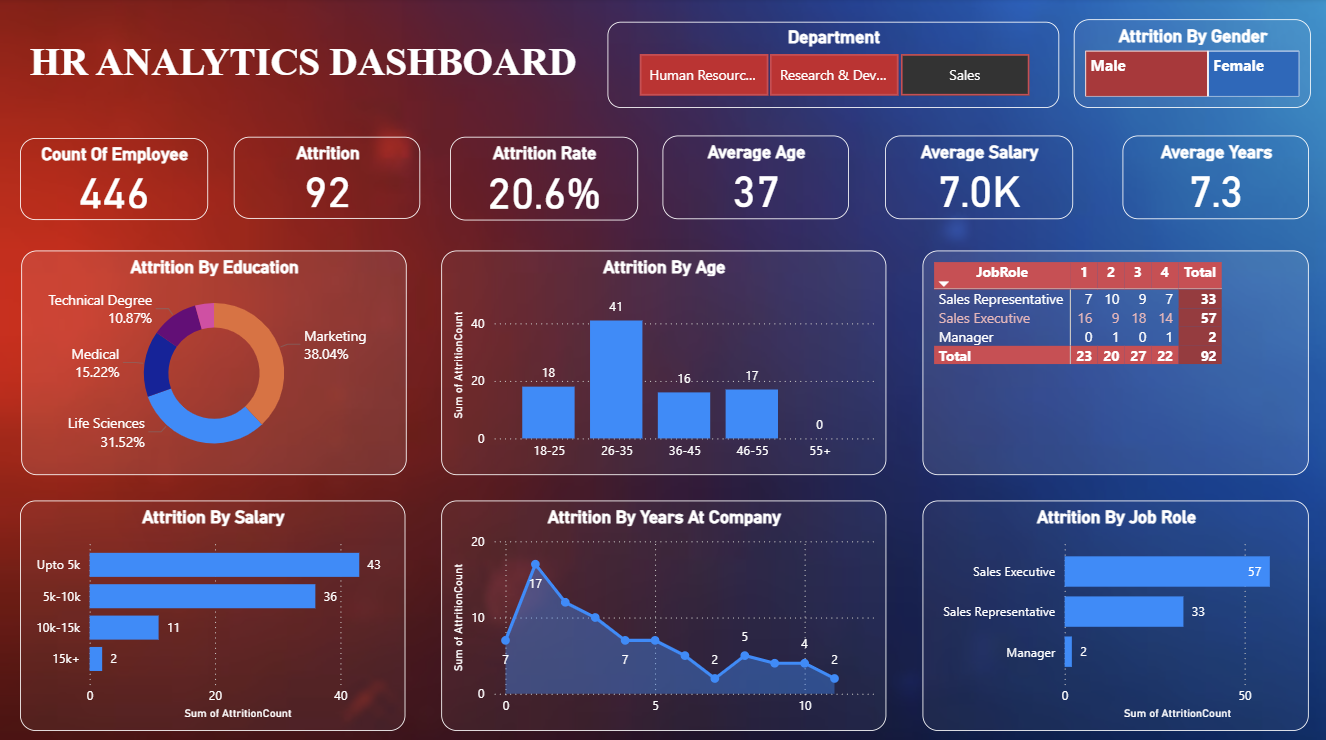

The page's visual inventory and layout, read from the dashboard file:
{"tool":"powerbi","page":{"name":"Page 1","canvas":[1280,720],"ordinal":0},"visuals":[{"type":"card","title":"Count Of Employee","fields":{"Values":["CountNonNull(HR_Analytics.EmpID)"]},"box":[19.2,135.4,181.4,79.2],"z":0},{"type":"card","title":"Attrition Rate","fields":{"Values":["HR_Analytics.AttritionRate"]},"box":[434.3,134.1,181.4,80.5],"z":1000},{"type":"card","title":"Attrition","fields":{"Values":["Sum(HR_Analytics.AttritionCount)"]},"box":[226.1,134.1,180.1,79.2],"z":2000},{"type":"card","title":"Average Age","fields":{"Values":["Avg(HR_Analytics.Age)"]},"box":[640,132.9,180.1,80.5],"z":3000},{"type":"card","title":"Average Years","fields":{"Values":["Avg(HR_Analytics.YearsAtCompany)"]},"box":[1083.3,132.9,180.1,80.5],"z":4000},{"type":"card","title":"Average Salary","fields":{"Values":["Avg(HR_Analytics.MonthlyIncome)"]},"box":[854.6,132.9,181.4,80.5],"z":5000},{"type":"donutChart","title":"Attrition By Education","fields":{"Category":["HR_Analytics.EducationField"],"Y":["Sum(HR_Analytics.AttritionCount)"]},"box":[20.4,244,371.7,217.2],"z":6000},{"type":"columnChart","title":"Attrition By Age","fields":{"Category":["HR_Analytics.AgeGroup","HR_Analytics.EducationField"],"Y":["Sum(HR_Analytics.AttritionCount)"]},"box":[425.4,244,429.2,217.2],"z":7000},{"type":"pivotTable","fields":{"Rows":["HR_Analytics.JobRole"],"Columns":["HR_Analytics.JobSatisfaction"],"Values":["Sum(HR_Analytics.AttritionCount)"]},"box":[890.4,244,373,217.2],"z":8000},{"type":"barChart","title":"Attrition By Salary","fields":{"Category":["HR_Analytics.SalarySlab"],"Y":["Sum(HR_Analytics.AttritionCount)"]},"box":[19.2,485.4,371.7,222.3],"z":9000},{"type":"barChart","title":"Attrition By Job Role","fields":{"Category":["HR_Analytics.JobRole"],"Y":["Sum(HR_Analytics.AttritionCount)"]},"box":[890.4,485.4,373,222.3],"z":10000},{"type":"areaChart","title":"Attrition By Years At Company","fields":{"Category":["HR_Analytics.YearsAtCompany"],"Y":["Sum(HR_Analytics.AttritionCount)"]},"box":[425.4,485.4,429.2,222.3],"z":11000},{"type":"treemap","title":"Attrition By Gender","fields":{"Group":["HR_Analytics.Gender"],"Values":["Sum(HR_Analytics.AttritionCount)"]},"box":[1036,20.4,228.7,85.6],"z":12000},{"type":"slicer","title":"Department","fields":{"Values":["HR_Analytics.Department"]},"box":[586.3,23,435.6,83],"z":13000},{"type":"textbox","box":[10.2,34.5,565.9,85.6],"z":14000}]}

Visuals, with their boxes in screenshot pixels (x1, y1, x2, y2), scaled from the page's 1280x720 canvas onto the 1326x740 screenshot:
"Count Of Employee" card: box=[20, 139, 208, 221]
"Attrition Rate" card: box=[450, 138, 638, 221]
"Attrition" card: box=[234, 138, 421, 219]
"Average Age" card: box=[663, 137, 850, 219]
"Average Years" card: box=[1122, 137, 1309, 219]
"Average Salary" card: box=[885, 137, 1073, 219]
"Attrition By Education" donutChart: box=[21, 251, 406, 474]
"Attrition By Age" columnChart: box=[441, 251, 885, 474]
pivotTable - HR_Analytics.JobRole x HR_Analytics.JobSatisfaction: box=[922, 251, 1309, 474]
"Attrition By Salary" barChart: box=[20, 499, 405, 727]
"Attrition By Job Role" barChart: box=[922, 499, 1309, 727]
"Attrition By Years At Company" areaChart: box=[441, 499, 885, 727]
"Attrition By Gender" treemap: box=[1073, 21, 1310, 109]
"Department" slicer: box=[607, 24, 1059, 109]
textbox: box=[11, 35, 597, 123]
